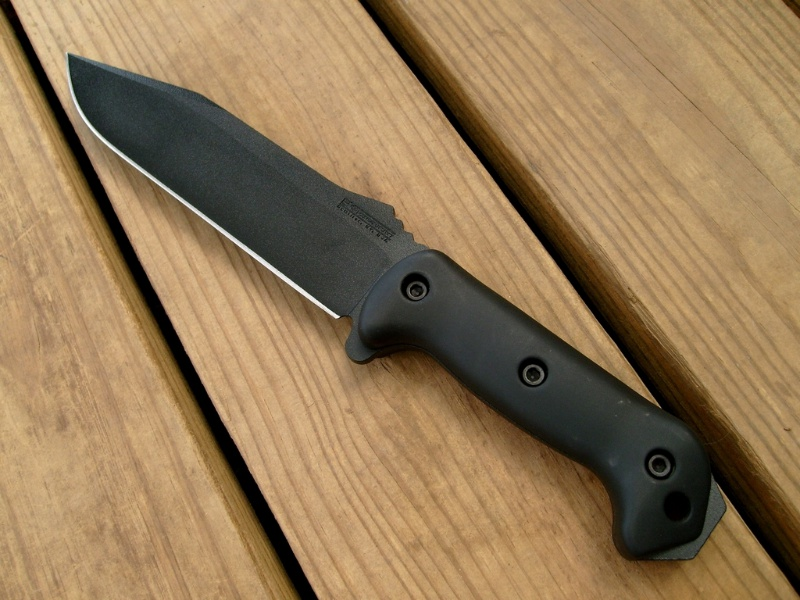knife: (65, 48, 728, 567)
